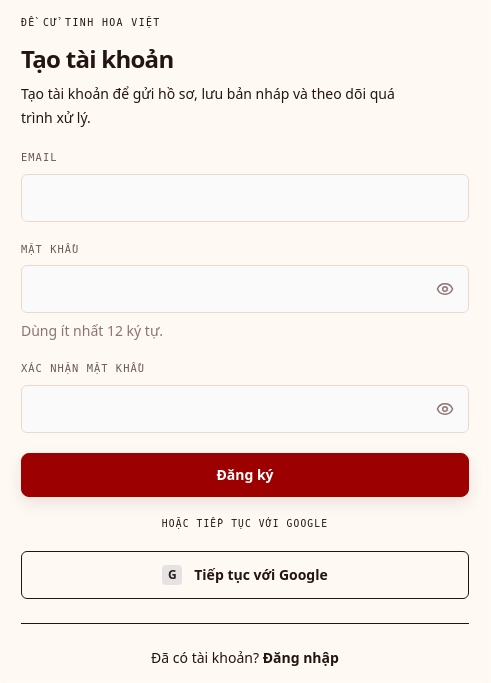
RegisterForm › creates the email identity in Firebase and sends a verification link
The image size is (491, 683).
Type "owner@cnsgroup.vn" into the field labelled "Email" at x=245, y=198, box [21,174,469,222]
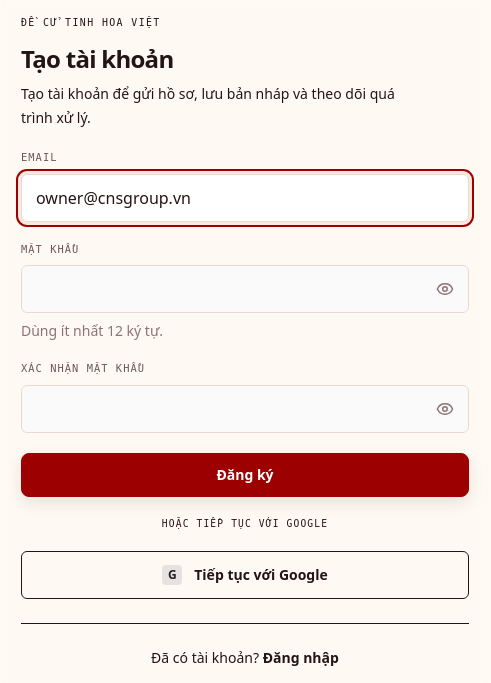
Type "correct horse battery staple" into the password field labelled "Mật khẩu" at x=245, y=289, box [21,265,469,313]
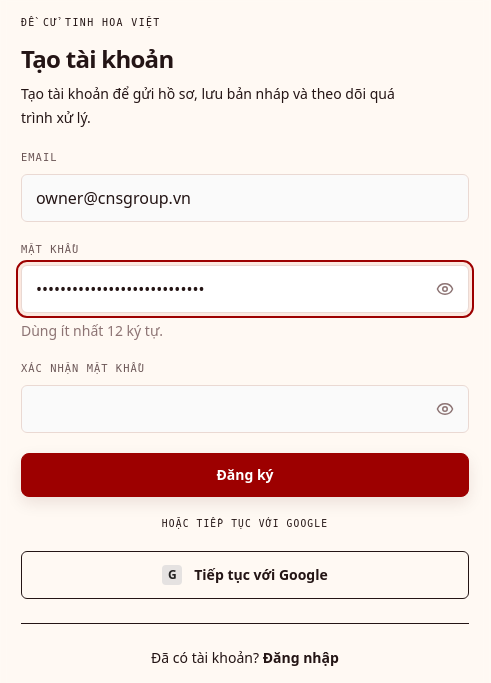
Type "correct horse battery staple" into the password field labelled "Xác nhận mật khẩu" at x=245, y=409, box [21,385,469,433]
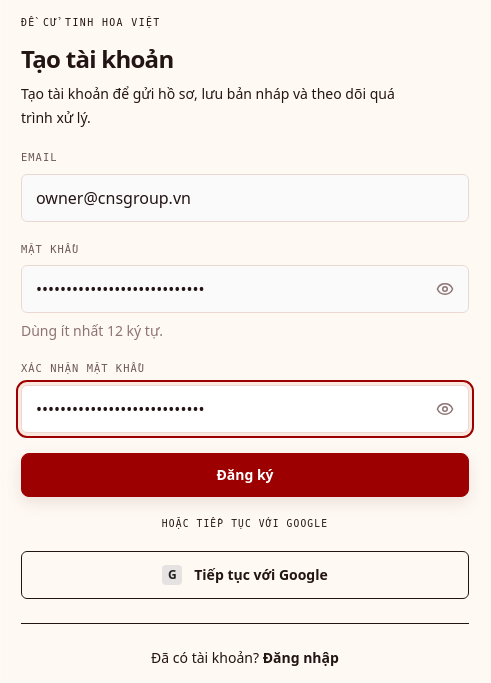
Click the button "Đăng ký" at x=245, y=475, box [21,453,469,497]
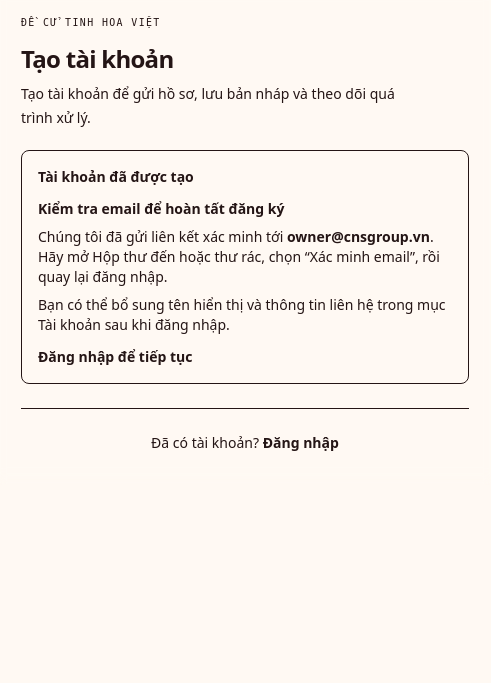
Expected: the message is shown, [21,150,469,384]
Expected: the text "Kiểm tra email để hoàn tất đăng ký" is shown, [38,199,284,218]
Expected: the text "Chúng tôi đã gửi liên kết xác minh tới" is shown, [38,227,283,246]
